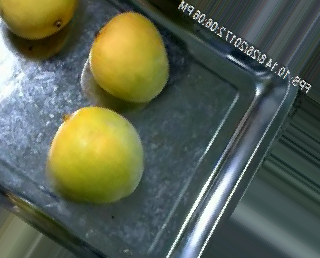Mango: (47, 108, 146, 203), (82, 14, 168, 102), (0, 0, 79, 39)
